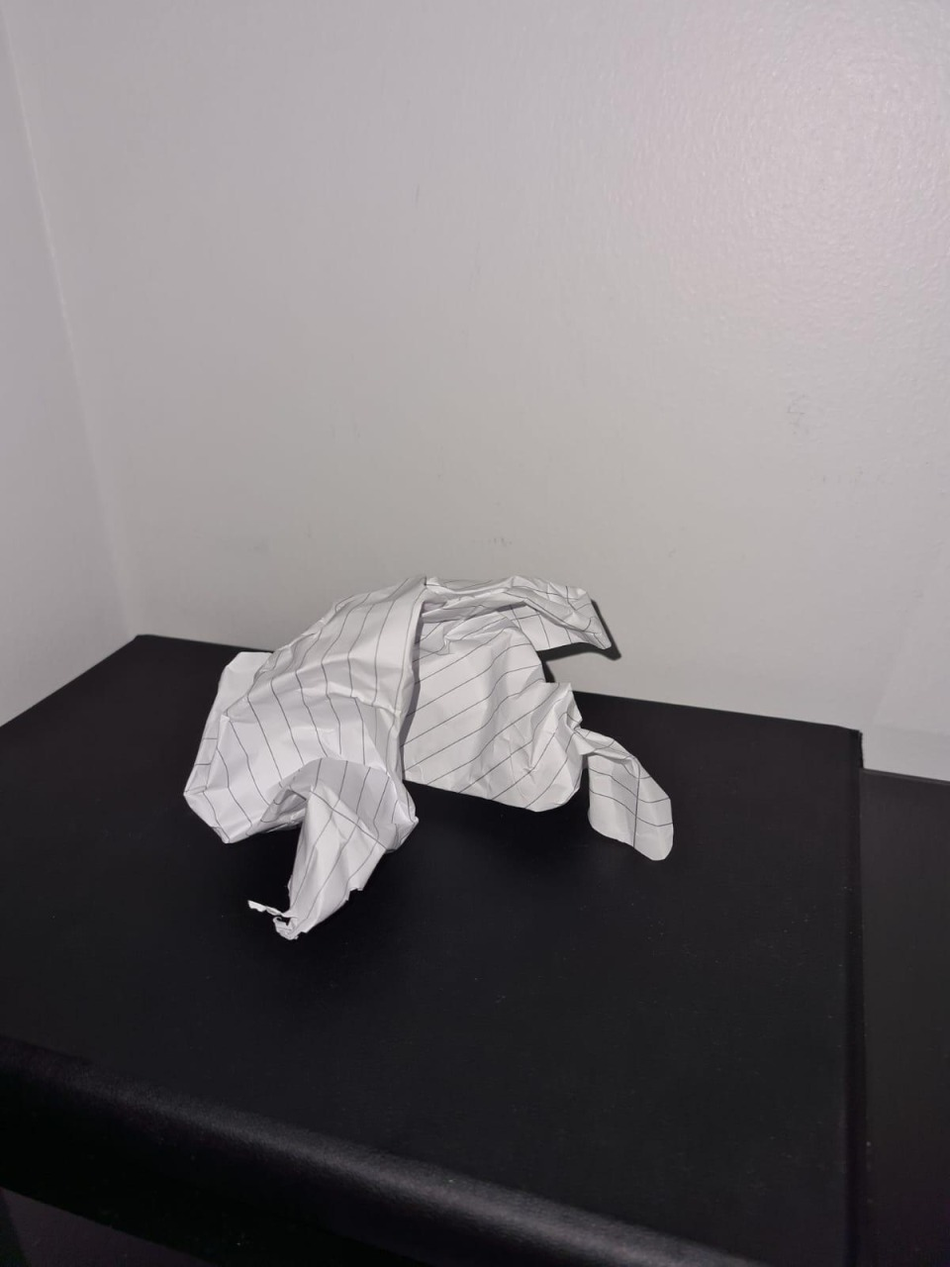paper: (191, 589, 686, 890)
